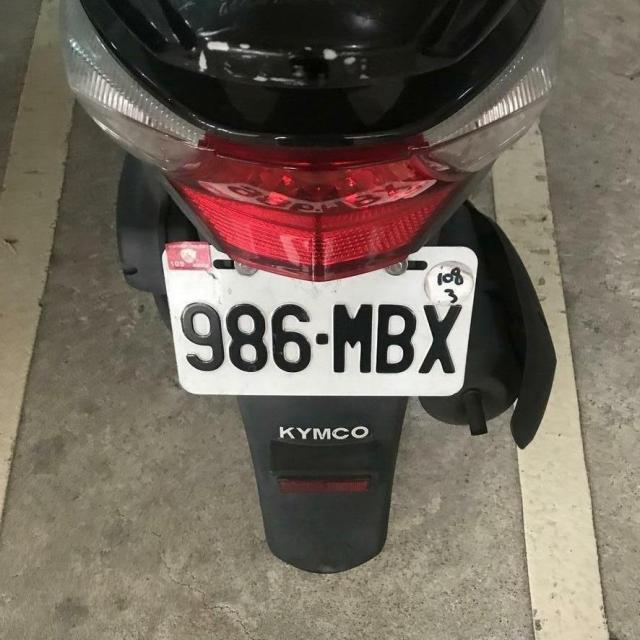W: (154, 237, 482, 405)
